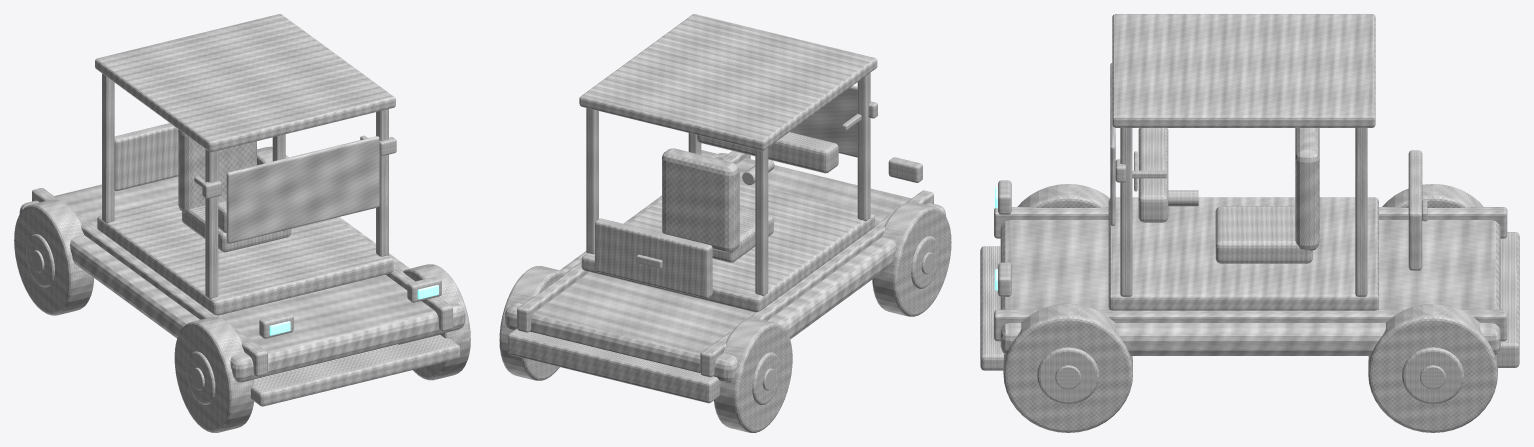
Rendered from explorer_variant_a.glb.
3 renders of one model, left to right at view 1: azimuth 30°, elevation 25°; view 2: azimuth 150°, elevation 25°; view 3: azimuth 270°, elevation 25°, orthographic. The views are drawn at different scales.
Parts seen in each view (by area): view 1: Roll cage roof, Tubular chassis, Floor pan, Front windscreen, Front skid plate, Off-road tire, Off-road tire.001, Rear storage hatch, Driver seat back, Longitudinal frame rail, Off-road tire.002, Roll cage post.001 (+8 smaller); view 2: Roll cage roof, Tubular chassis, Floor pan, Driver seat back, Rear storage hatch, Rear bumper, Off-road tire.001, Off-road tire, Longitudinal frame rail, Off-road tire.003, Dashboard, Front windscreen (+8 smaller); view 3: Roll cage roof, Tubular chassis, Floor pan, Off-road tire.003, Off-road tire.002, Longitudinal frame rail.001, Driver seat base, Longitudinal frame rail, Driver seat back, Dashboard, Rear bumper, Wheel hub.003 (+11 smaller).
Part boxes in pixels (x1=…): Roll cage roof: x1=95, y1=14, x2=395, y2=152; Tubular chassis: x1=19, y1=176, x2=465, y2=382; Floor pan: x1=97, y1=197, x2=393, y2=315; Front windscreen: x1=226, y1=136, x2=379, y2=243; Front skid plate: x1=250, y1=334, x2=460, y2=406; Off-road tire: x1=174, y1=317, x2=254, y2=432; Off-road tire.001: x1=14, y1=199, x2=93, y2=315; Rear storage hatch: x1=114, y1=123, x2=178, y2=191; Driver seat back: x1=178, y1=130, x2=256, y2=212; Longitudinal frame rail: x1=32, y1=188, x2=267, y2=376; Off-road tire.002: x1=398, y1=264, x2=470, y2=380; Roll cage post.001: x1=102, y1=73, x2=114, y2=223; Roll cage roof: x1=579, y1=14, x2=877, y2=150; Tubular chassis: x1=505, y1=153, x2=945, y2=382; Floor pan: x1=581, y1=181, x2=874, y2=312; Driver seat back: x1=662, y1=148, x2=739, y2=252; Rear storage hatch: x1=595, y1=218, x2=712, y2=298; Rear bumper: x1=508, y1=328, x2=720, y2=403; Off-road tire.001: x1=714, y1=318, x2=792, y2=432; Off-road tire: x1=872, y1=202, x2=951, y2=316; Longitudinal frame rail: x1=700, y1=190, x2=933, y2=377; Off-road tire.003: x1=499, y1=266, x2=566, y2=380; Dashboard: x1=697, y1=132, x2=838, y2=173; Front windscreen: x1=790, y1=85, x2=857, y2=157; Roll cage roof: x1=1112, y1=14, x2=1375, y2=127; Tubular chassis: x1=1000, y1=220, x2=1500, y2=355; Floor pan: x1=1108, y1=197, x2=1378, y2=310; Off-road tire.003: x1=1368, y1=304, x2=1497, y2=432; Off-road tire.002: x1=1003, y1=304, x2=1132, y2=432; Longitudinal frame rail.001: x1=994, y1=309, x2=1507, y2=341; Driver seat base: x1=1215, y1=206, x2=1312, y2=263; Longitudinal frame rail: x1=994, y1=207, x2=1507, y2=238; Driver seat back: x1=1295, y1=128, x2=1319, y2=250; Dashboard: x1=1138, y1=128, x2=1168, y2=222; Rear bumper: x1=1496, y1=232, x2=1519, y2=367; Wheel hub.003: x1=1402, y1=347, x2=1464, y2=404.
Size of what is drawn, in the model's own units: 2.44 by 2.47 by 3.99.
8 materials, 8 textured.
